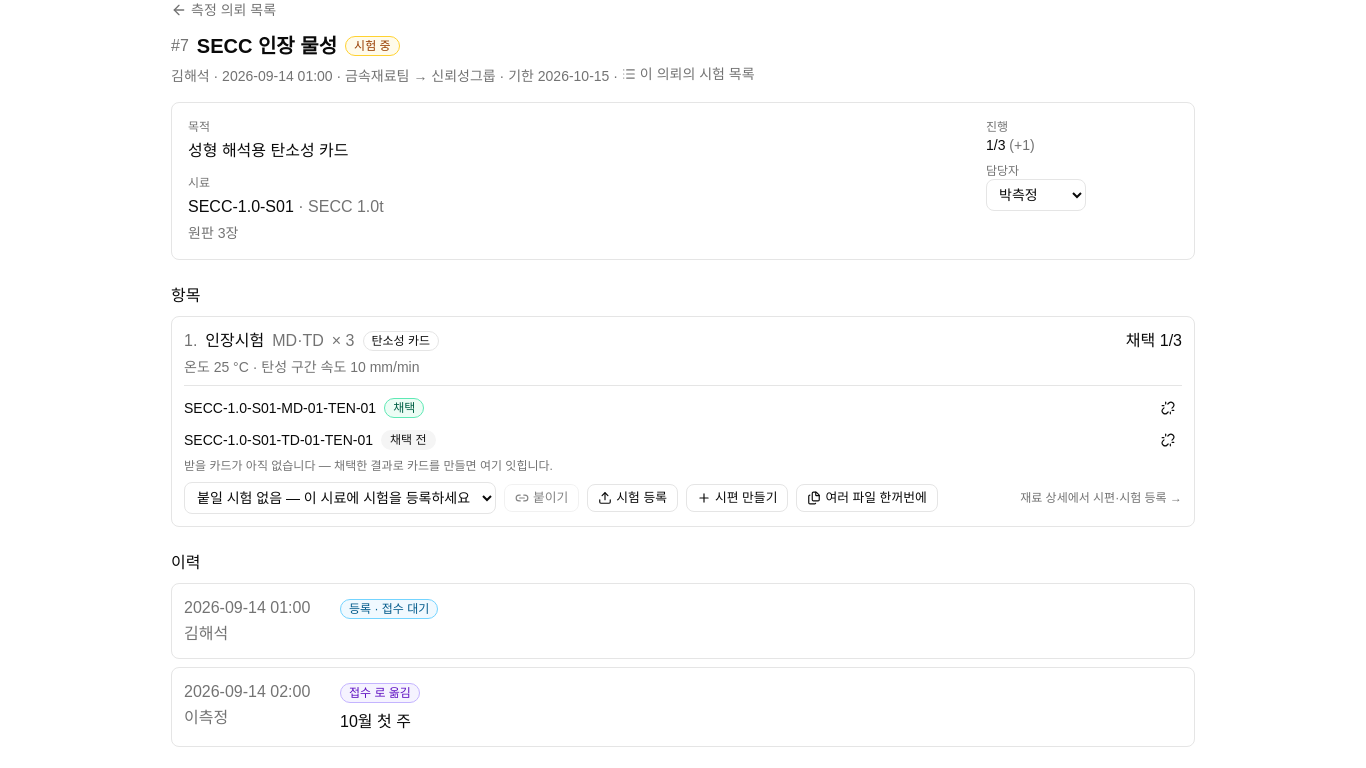
Test case: 2단계 마무리 (2026-10-03) › 시편 만들기 — 수량을 방향에 나눈 안을 고쳐서 하나씩 만든다
Expected: the heading "SECC 인장 물성" is shown, [197,32,337,60]
Click the button "시편 만들기". click: (737, 498)
box: [686,484,788,512]
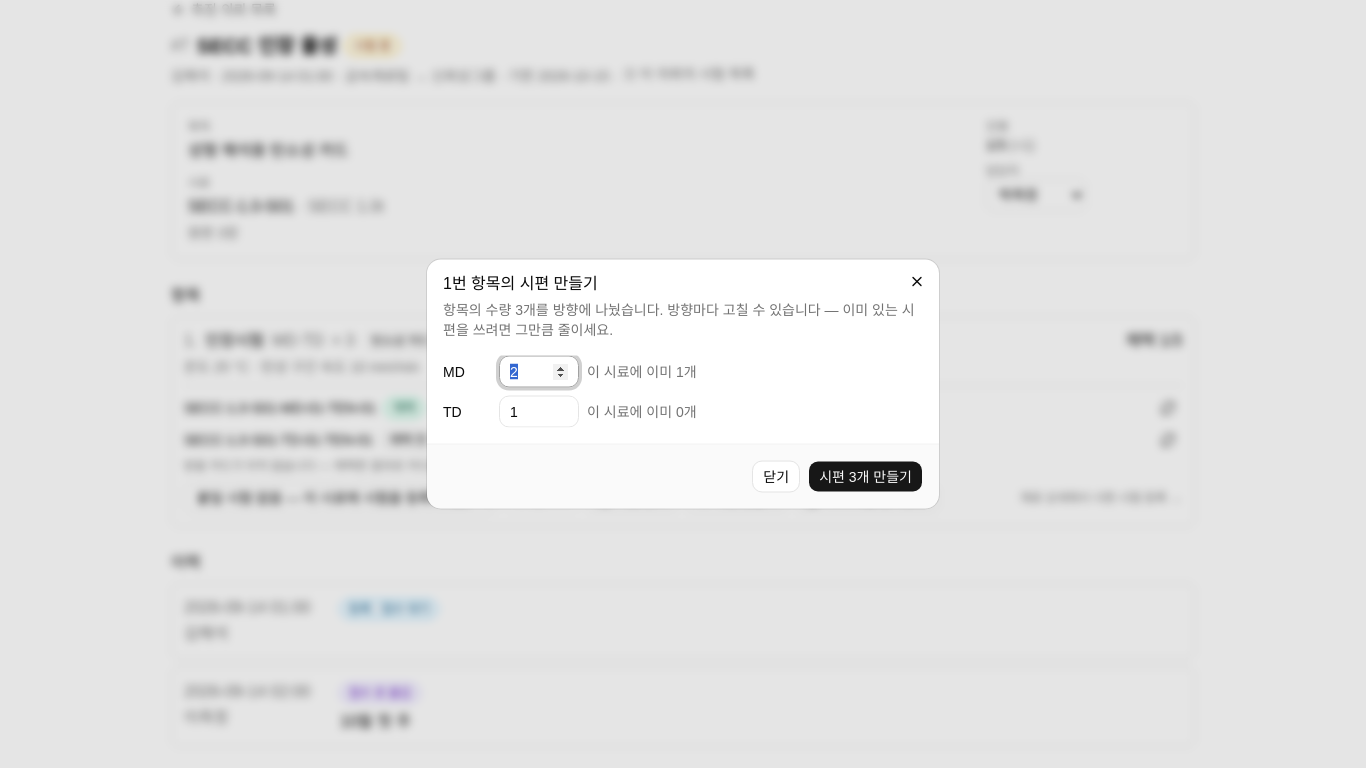
Result: the number field named "MD 시편 수" holds "2" at [499,356,579,388]
Result: the number field named "TD 시편 수" holds "1"
Result: the text "이 시료에 이미 1개" is shown at [587,362,697,382]
Replace the text in the number field named "TD 시편 수" with "2". click: (539, 412)
box: [499,396,579,428]
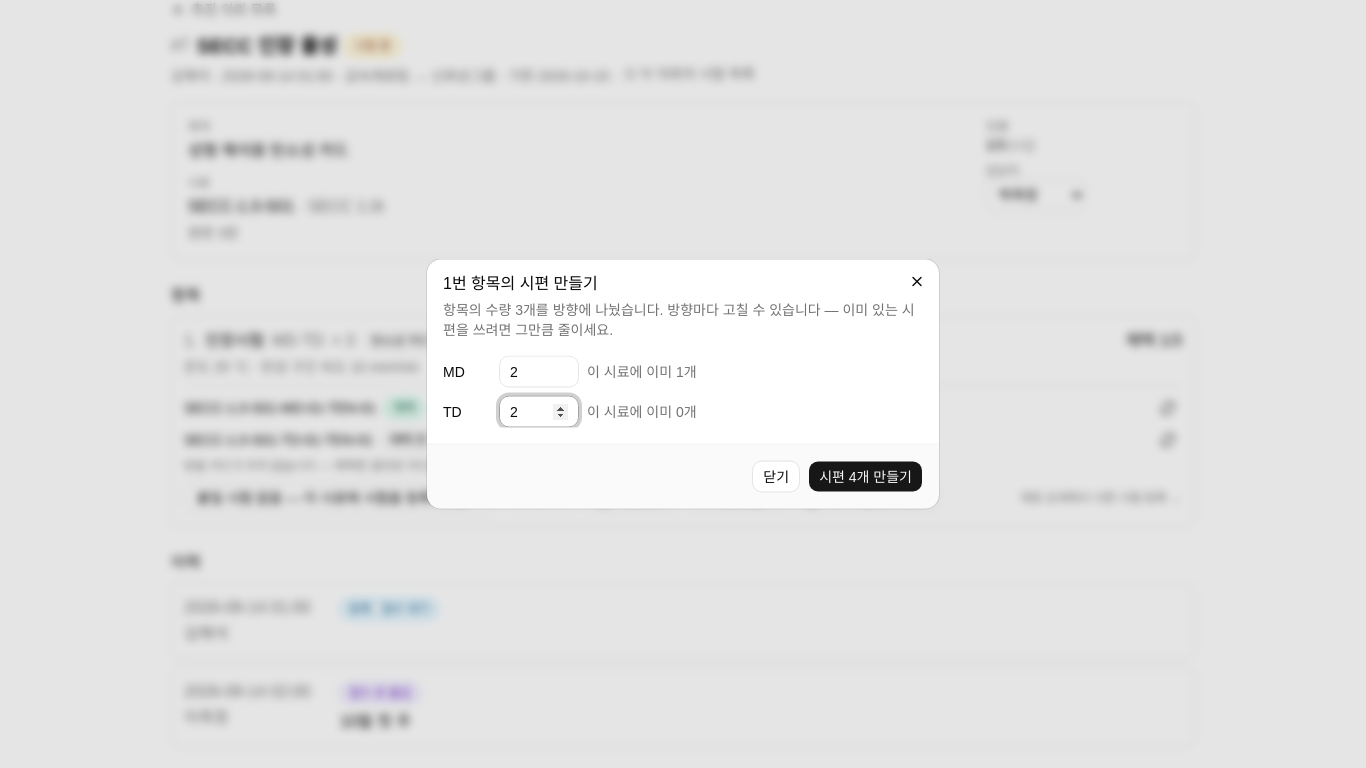
Click the button "시편 4개 만들기". click: (866, 476)
box: [808,460,923,492]
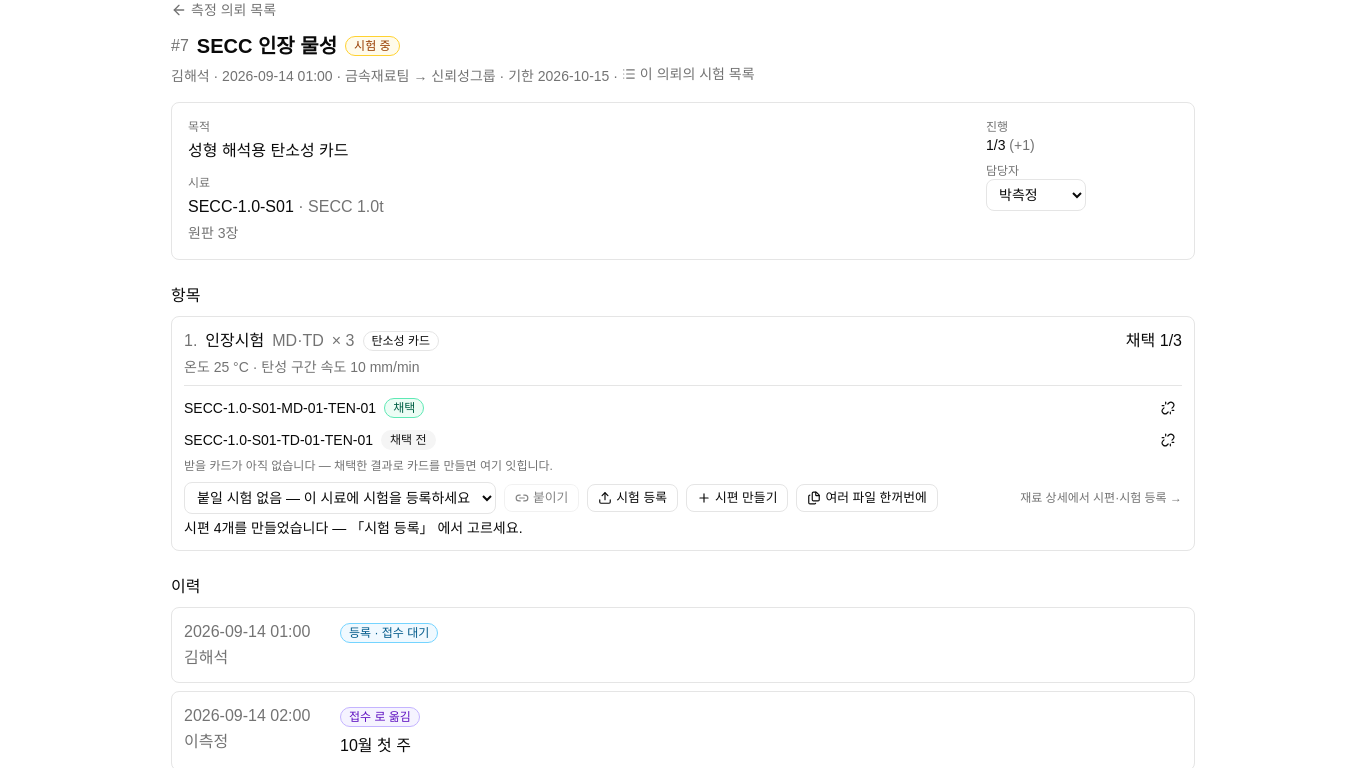
Result: the text "시편 4개를 만들었습니다 — 「시험 등록」 에서 고르세요." is shown at [184,520,522,536]
